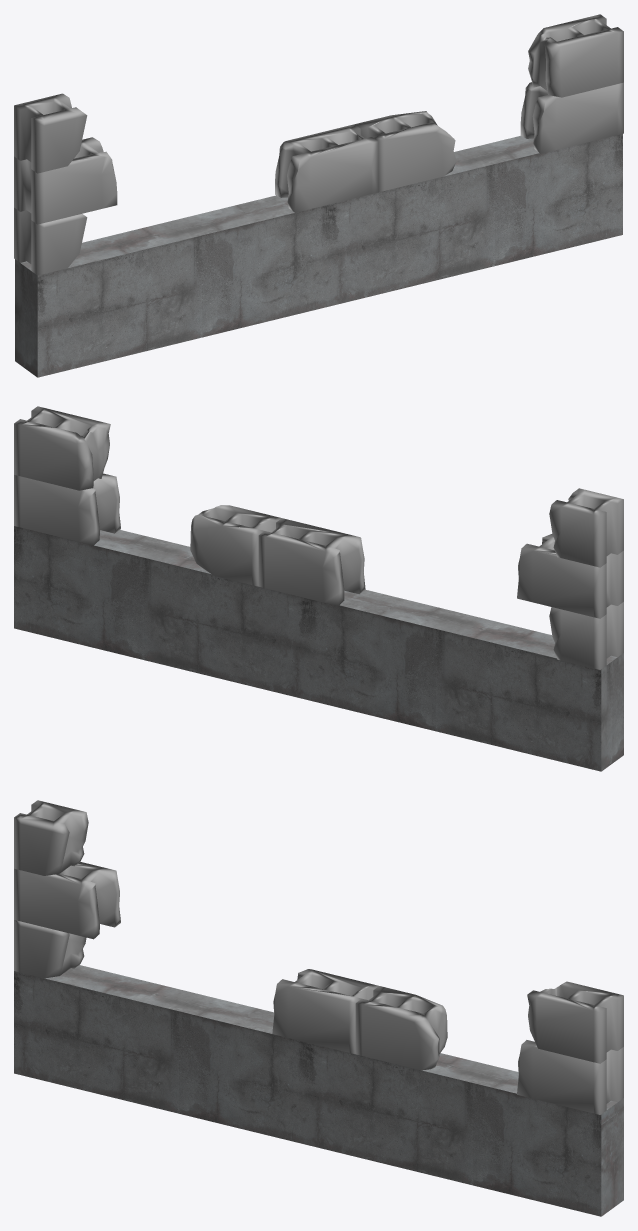
The model's file is wall_1window_01_Broken_05.fbx.
3 renders of one model, top to bottom at view 1: azimuth 30°, elevation 25°; view 2: azimuth 150°, elevation 25°; view 3: azimuth 330°, elevation 25°, orthographic.
Visible parts, largest first — view 1: wall_1window_01_Broken_05; view 2: wall_1window_01_Broken_05; view 3: wall_1window_01_Broken_05.
Boxes of the visible parts, bbox=[...] form: wall_1window_01_Broken_05: bbox=[14, 14, 623, 377]; wall_1window_01_Broken_05: bbox=[14, 406, 623, 771]; wall_1window_01_Broken_05: bbox=[14, 800, 623, 1216].
Bounding box in the file's own units: 300 × 125 × 21.87.
Materials: 2 (1 with a texture image).
